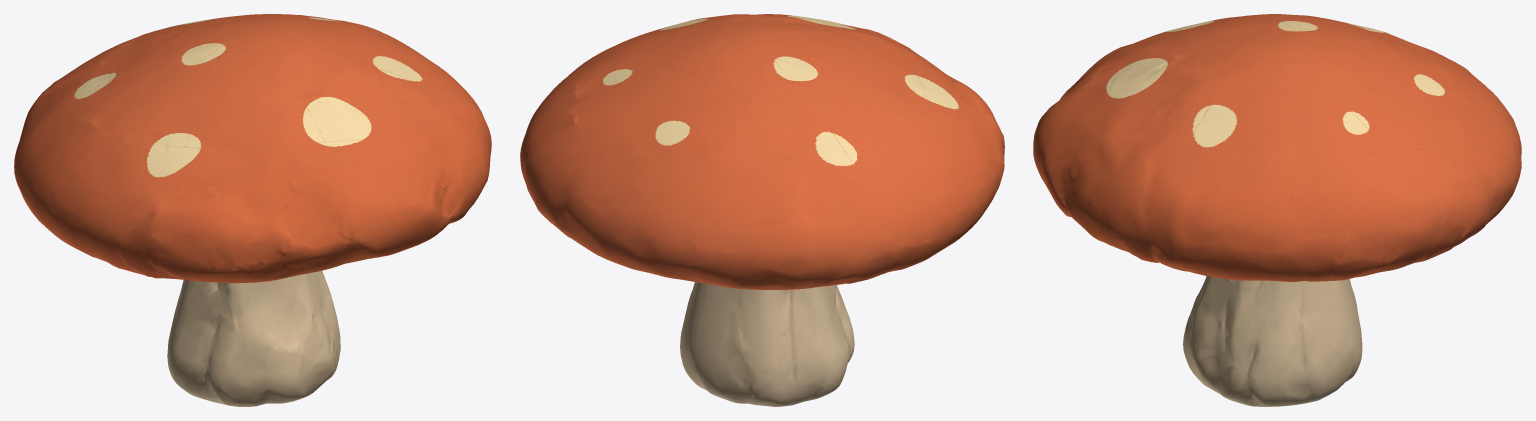
Rendered from forest-hero-mushroom.glb.
3 views of the same model, side by side, from view 1: azimuth 30°, elevation 25°; view 2: azimuth 150°, elevation 25°; view 3: azimuth 270°, elevation 25° (orthographic).
Size of the model in its own units: 1.89 by 1.48 by 1.9.
1 material, 1 textured.
